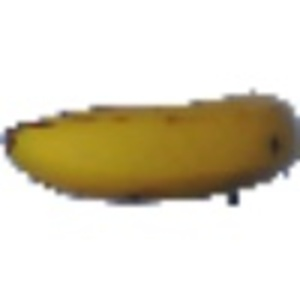banana: (2, 85, 296, 202)
